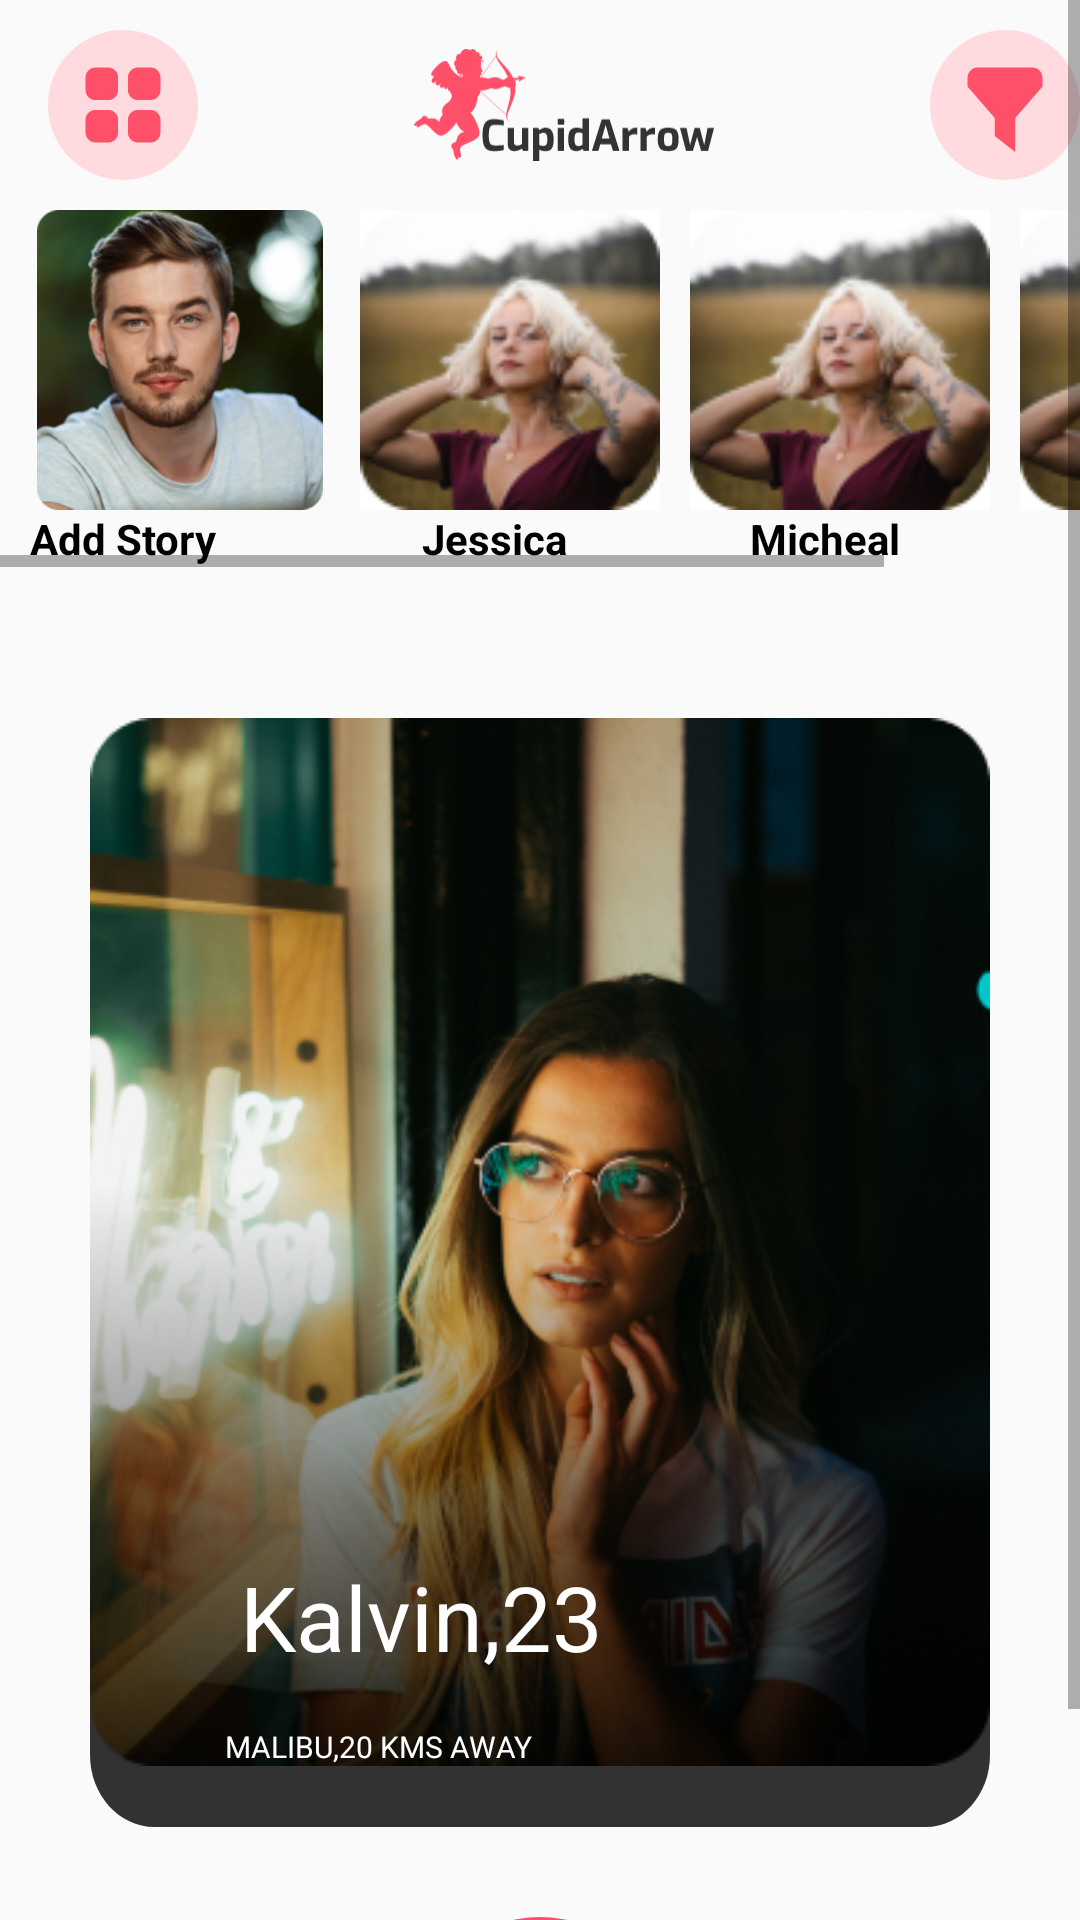

Screen size 1080 × 1920. Icon name, then its box in pixels as (x1, y1, x2, y2):
filter: (930, 0, 1080, 210)
menu: (48, 30, 198, 180)
